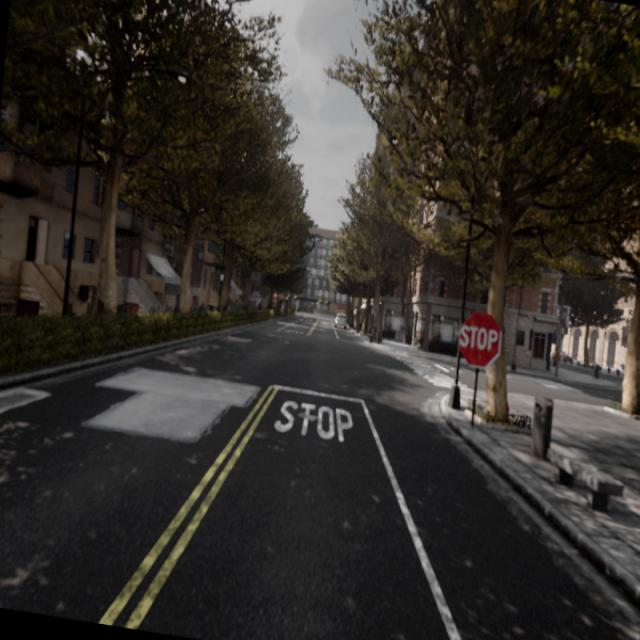stop sign: (456, 307, 502, 371), (458, 323, 499, 352)
